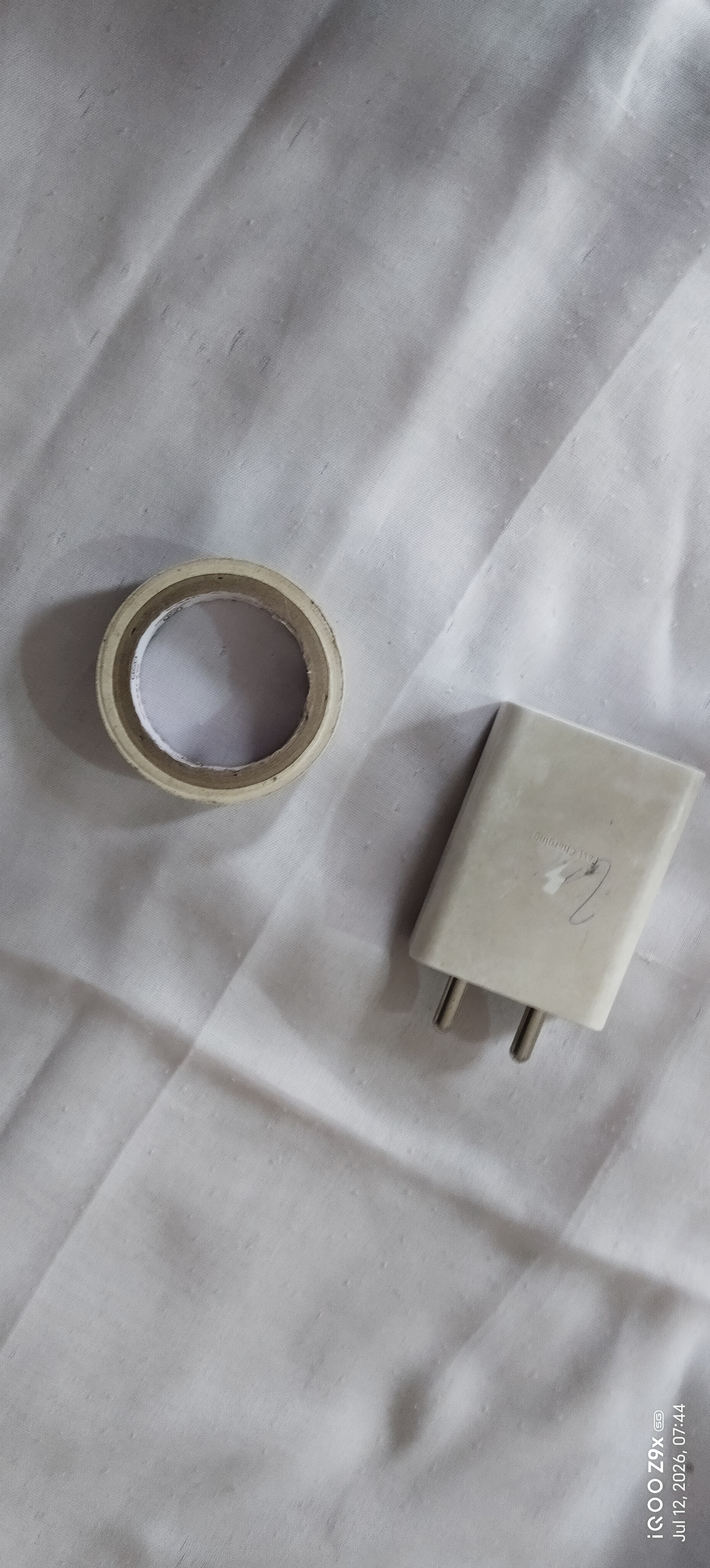charger: (391, 672, 710, 1090)
tape_roll: (75, 516, 359, 835)
